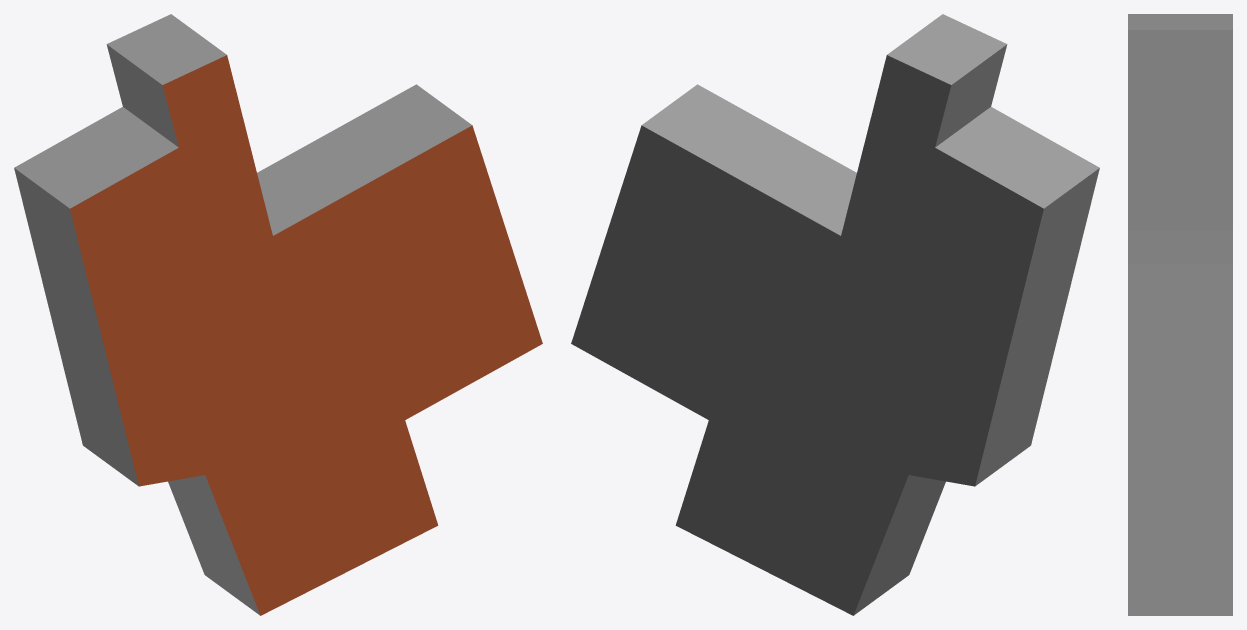
The model's file is construction_2475_assumed_A_Casa_h6m.obj.
The picture shows the model from 3 angles, left to right: view 1: azimuth 30°, elevation 25°; view 2: azimuth 150°, elevation 25°; view 3: azimuth 270°, elevation 25°; orthographic projection. The views are drawn at different scales.
Parts seen in each view (by area): view 1: construction_2475_assumed_A_Casa; view 2: construction_2475_assumed_A_Casa; view 3: construction_2475_assumed_A_Casa.
Boxes of the visible parts, left/top/right/bottom form: construction_2475_assumed_A_Casa: left=14, top=14, right=542, bottom=615; construction_2475_assumed_A_Casa: left=571, top=14, right=1099, bottom=615; construction_2475_assumed_A_Casa: left=1128, top=14, right=1232, bottom=615.
Bounding box in the file's own units: 29.26 × 33.65 × 6.
